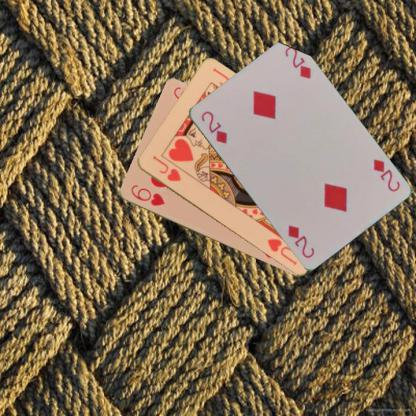2d: (198, 108, 229, 145), (370, 156, 401, 193)
6h: (128, 182, 166, 209)
Jh: (149, 153, 182, 183)
